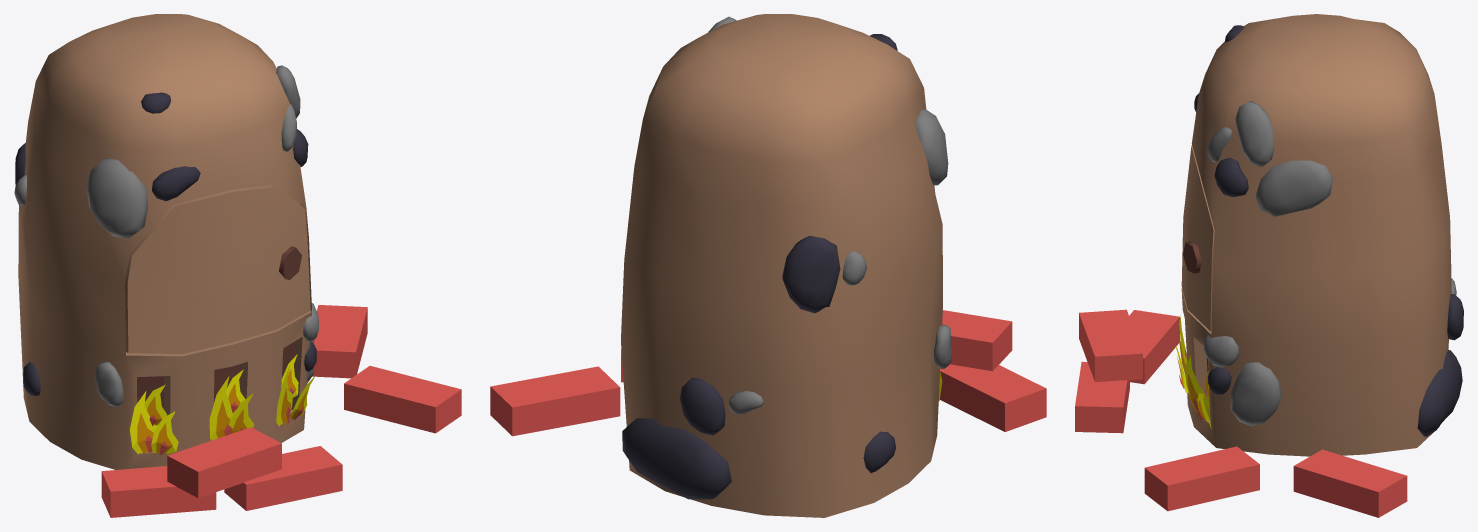
Rendered from s_clayOven.fbx.
The picture shows the model from 3 angles, left to right: view 1: azimuth 30°, elevation 25°; view 2: azimuth 150°, elevation 25°; view 3: azimuth 270°, elevation 25°; orthographic projection. The views are drawn at different scales.
Parts seen in each view (by area): view 1: s_clay_oven_main, s_clay_oven_bricks, s_clay_oven_stones, s_clay_oven_fire; view 2: s_clay_oven_main, s_clay_oven_stones, s_clay_oven_bricks; view 3: s_clay_oven_main, s_clay_oven_bricks, s_clay_oven_stones, s_clay_oven_fire.
Boxes of the visible parts, x1,y1,x2,y2 form: s_clay_oven_main: (18, 14, 311, 469); s_clay_oven_bricks: (101, 305, 461, 517); s_clay_oven_stones: (14, 65, 318, 407); s_clay_oven_fire: (129, 354, 315, 454); s_clay_oven_main: (621, 14, 942, 517); s_clay_oven_stones: (622, 16, 951, 499); s_clay_oven_bricks: (490, 310, 1046, 436); s_clay_oven_main: (1181, 14, 1451, 456); s_clay_oven_bricks: (1075, 309, 1407, 517); s_clay_oven_stones: (1194, 25, 1463, 436); s_clay_oven_fire: (1175, 315, 1211, 428).
Bounding box in the file's own units: 179 × 161 × 169.
